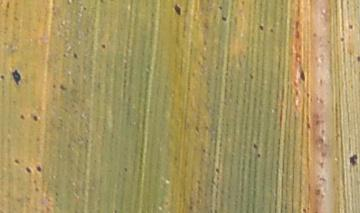tarspot: (10, 67, 22, 88), (170, 2, 183, 18), (297, 68, 307, 84), (348, 153, 358, 168), (31, 112, 40, 125), (71, 49, 80, 61), (249, 142, 259, 152), (58, 82, 68, 92), (304, 120, 313, 131), (34, 164, 43, 175), (256, 23, 266, 32), (218, 14, 228, 23), (11, 158, 21, 167), (24, 165, 33, 175), (121, 164, 129, 175), (213, 164, 221, 175), (248, 73, 257, 82), (19, 111, 26, 122), (216, 3, 225, 11), (347, 21, 354, 31), (1, 71, 7, 82), (31, 178, 38, 187), (100, 41, 107, 50), (298, 207, 308, 213), (33, 187, 41, 194), (355, 53, 360, 63), (267, 27, 275, 33), (255, 153, 262, 159), (340, 36, 346, 43)
